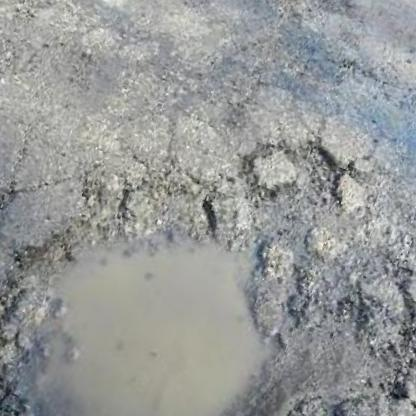pothole: (0, 106, 416, 416), (276, 129, 364, 211)
